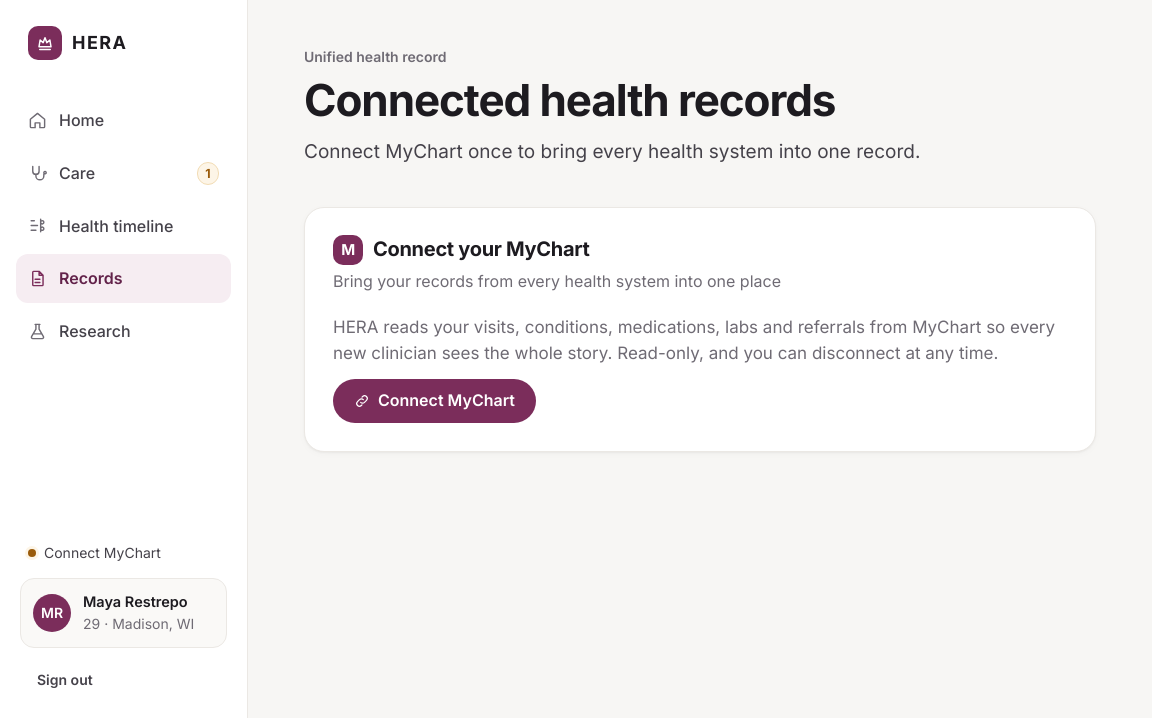
Test: Unified health record › asks to connect MyChart first, then shows every record section
Check: the heading "M Connect your MyChart" is shown, box [333, 235, 590, 265]
Click the button "Connect MyChart".
click(434, 401)  # box [333, 379, 536, 423]
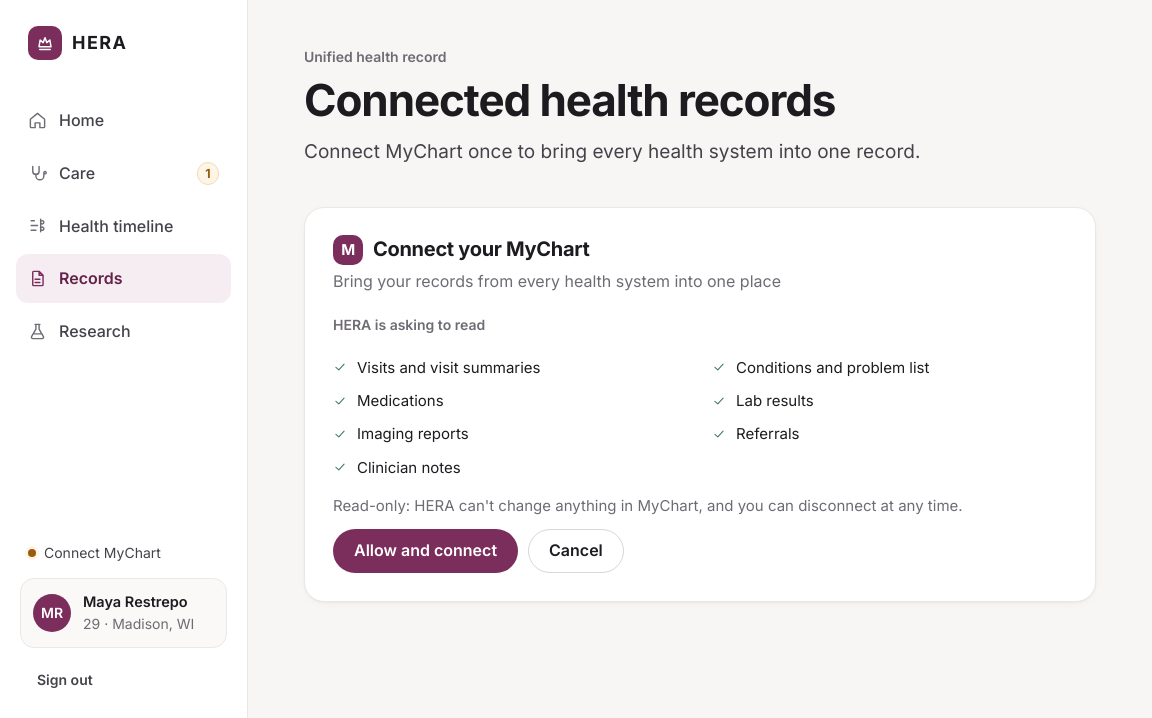
Check: the list item "Lab results" is shown, box [712, 391, 814, 410]
Check: the text "Read-only: HERA can't change anything in MyChart" is shown, box [333, 496, 963, 515]
Click the button "Allow and connect".
click(426, 551)  # box [333, 529, 518, 573]
(page scrolled)
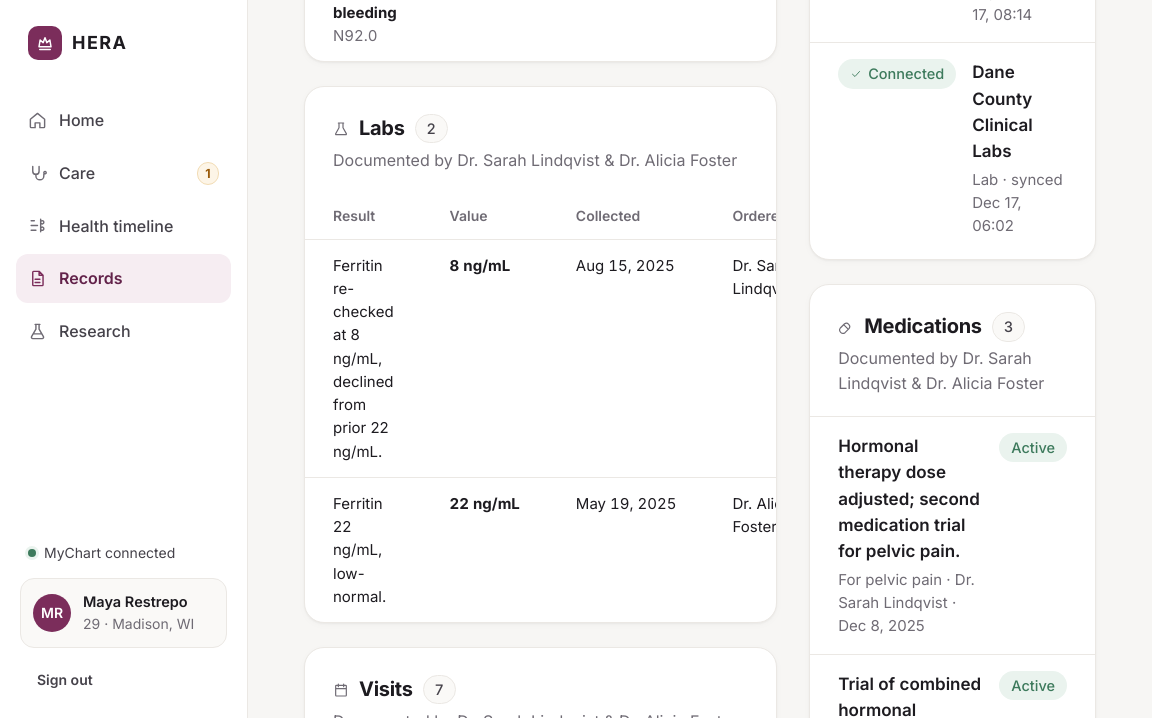
Check: the heading "Labs 2" is shown, box [333, 114, 448, 143]
Check: the heading "Visits 7" is shown, box [333, 675, 456, 704]
Check: the heading "Medications 3" is shown, box [838, 312, 1025, 342]
